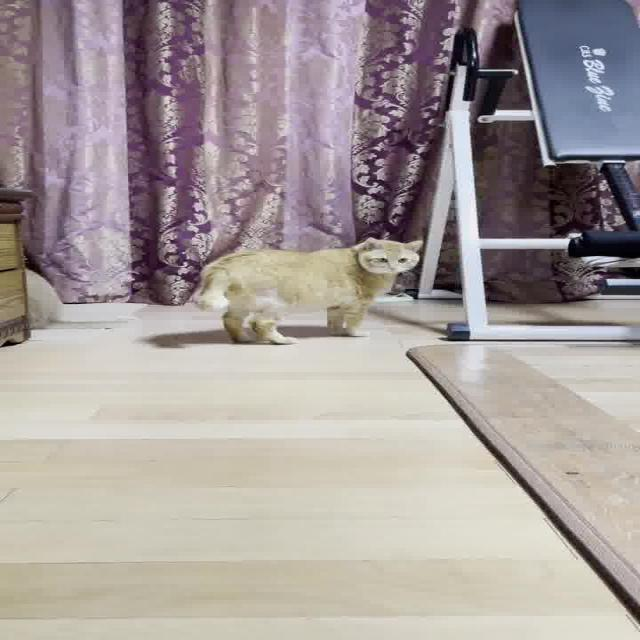cat: (170, 225, 436, 354)
